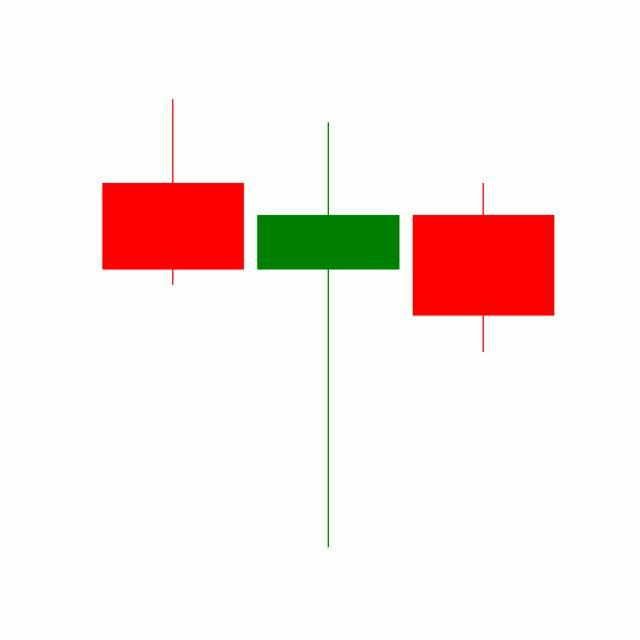Spinning Top: (250, 118, 407, 553)
